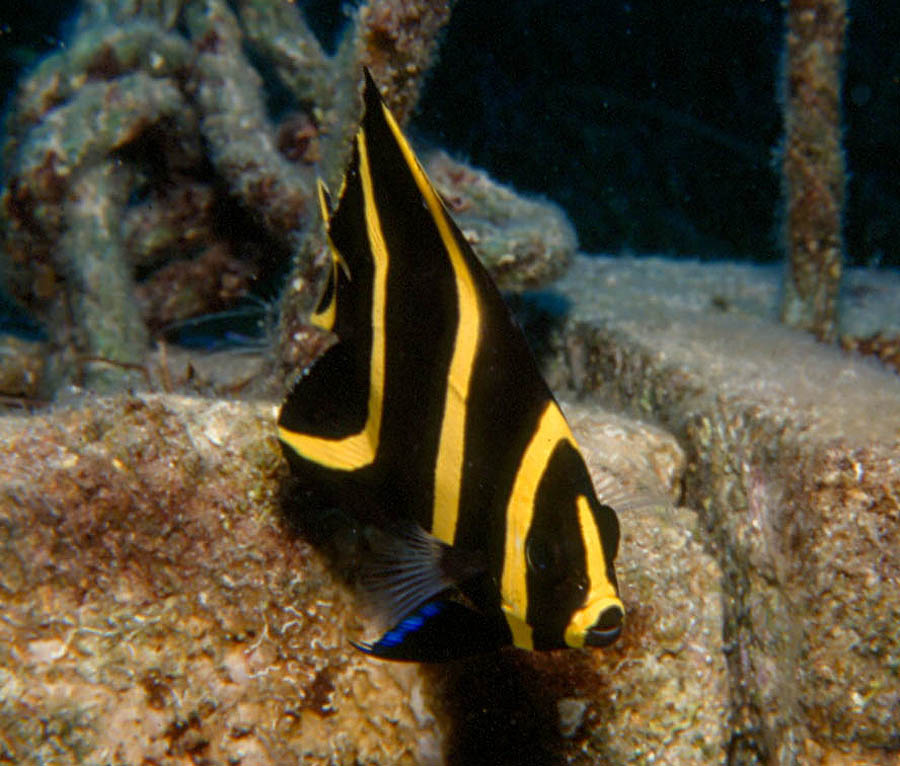Pomacanthus_paru: (252, 62, 678, 706)
